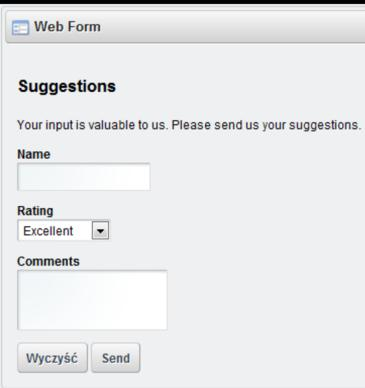button: (15, 341, 89, 375), (89, 342, 141, 374)
field: (16, 269, 170, 332), (16, 161, 151, 192), (16, 219, 111, 241)
field_with_label: (13, 255, 173, 335), (14, 148, 156, 195), (13, 204, 113, 242)
